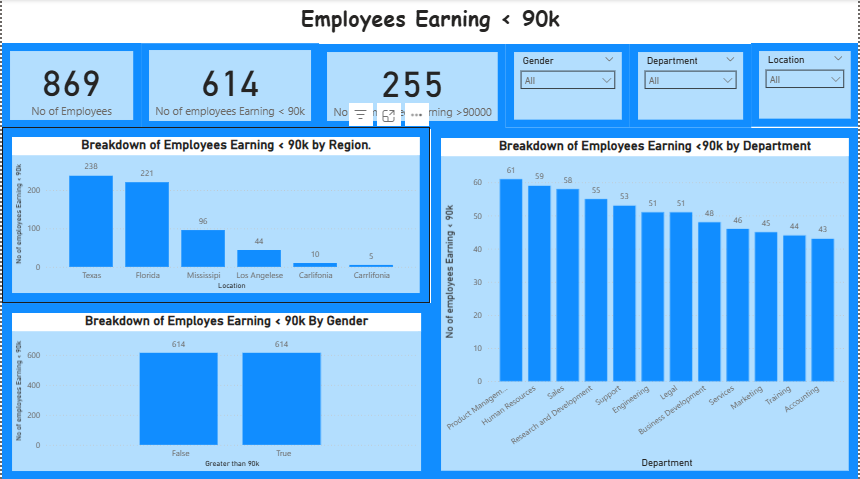

This screenshot's page, from the dashboard's own definition file:
{"tool":"powerbi","page":{"name":"Employees Earning < 90k","canvas":[1280,720],"ordinal":3},"visuals":[{"type":"card","fields":{"Values":["Gender Distribution 2 (2).No of employees Earning < 90k"]},"box":[207.6,64.2,265.9,130],"z":0},{"type":"textbox","box":[0,0,1280.2,65.7],"z":1000},{"type":"card","fields":{"Values":["Gender Distribution 2 (2).No of Employees"]},"box":[0,65.7,207.6,127],"z":2000},{"type":"card","fields":{"Values":["Gender Distribution 2 (2).No of Employees Earning >90000"]},"box":[473.5,67.2,279.3,127],"z":3000},{"type":"clusteredColumnChart","title":"Breakdown of Employes Earning < 90k By Gender","fields":{"Category":["in.Greater than 90k"],"Y":["Gender Distribution 2 (2).No of employees Earning < 90k"]},"box":[0,454.1,640.8,265.9],"z":4000},{"type":"columnChart","title":"Breakdown of Employees Earning <90k by Department","fields":{"Category":["in.Department"],"Y":["Gender Distribution 2 (2).No of employees Earning < 90k"]},"box":[640.8,192.7,639.3,527.3],"z":5000},{"type":"clusteredColumnChart","title":"Breakdown of Employees Earning < 90k by Region.","fields":{"Category":["in.Location"],"Y":["Gender Distribution 2 (2).No of employees Earning < 90k"]},"box":[0,191.2,639.3,262.9],"z":6000},{"type":"slicer","fields":{"Values":["in.Gender"]},"box":[752.9,67.2,185.2,125.5],"z":7000},{"type":"slicer","fields":{"Values":["in.Location"]},"box":[1118.8,65.7,161.3,125.5],"z":8000},{"type":"slicer","fields":{"Values":["in.Department"]},"box":[938.1,67.2,180.7,125.5],"z":9000}]}

Visuals, with their boxes on the page's 1280x720 design canvas (x1, y1, x2, y2). These are canvas units, not pixel positions in the 860x479 screenshot, which may show the page scaled, cropped or inside an application window:
card - Gender Distribution 2 (2).No of employees Earning < 90k: locate(208, 64, 474, 194)
textbox: locate(0, 0, 1280, 66)
card - Gender Distribution 2 (2).No of Employees: locate(0, 66, 208, 193)
card - Gender Distribution 2 (2).No of Employees Earning >90000: locate(474, 67, 753, 194)
"Breakdown of Employes Earning < 90k By Gender" clusteredColumnChart: locate(0, 454, 641, 720)
"Breakdown of Employees Earning <90k by Department" columnChart: locate(641, 193, 1280, 720)
"Breakdown of Employees Earning < 90k by Region." clusteredColumnChart: locate(0, 191, 639, 454)
slicer - in.Gender: locate(753, 67, 938, 193)
slicer - in.Location: locate(1119, 66, 1280, 191)
slicer - in.Department: locate(938, 67, 1119, 193)
